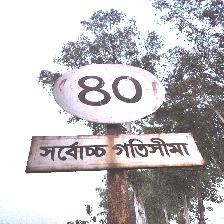Speed-limit: (27, 63, 203, 173)
